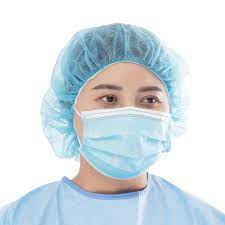with_mask_and_cap: (68, 23, 178, 181)
